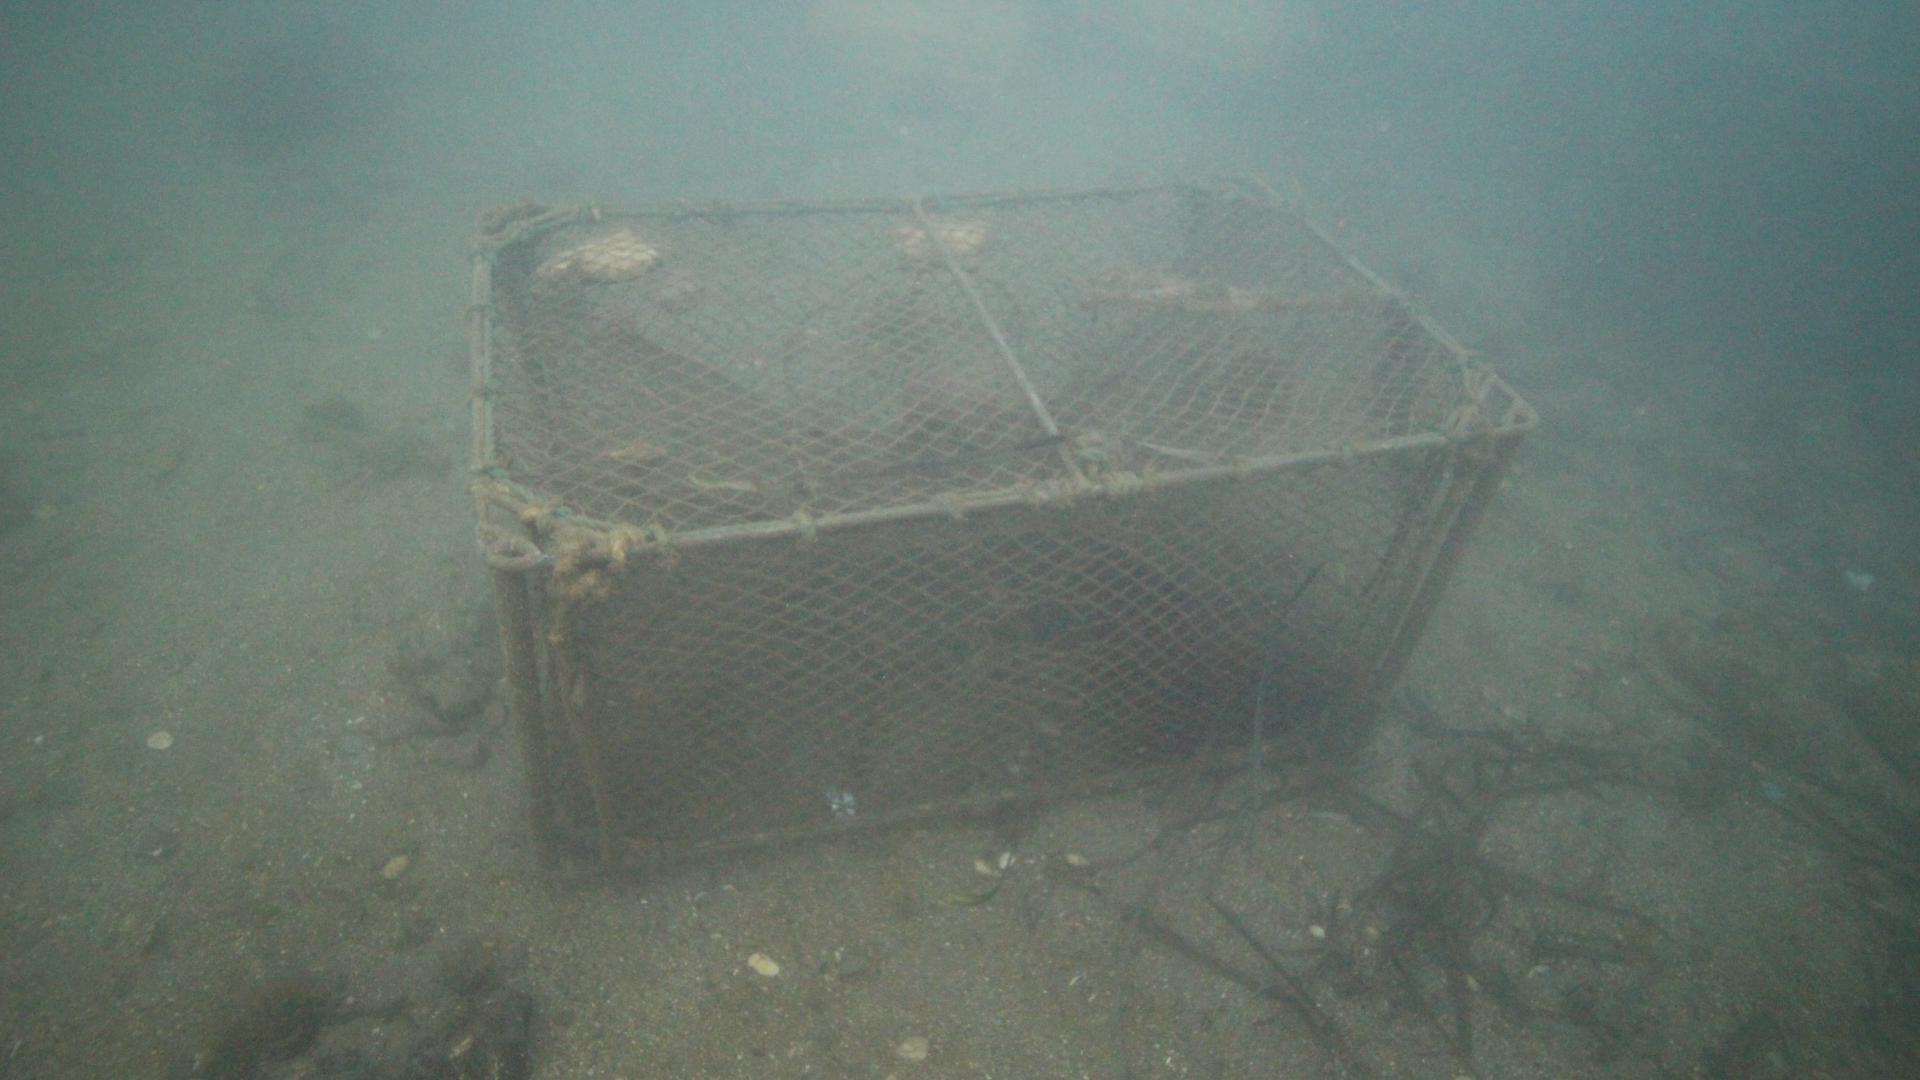rectangular fish trap: (468, 165, 1542, 882)
